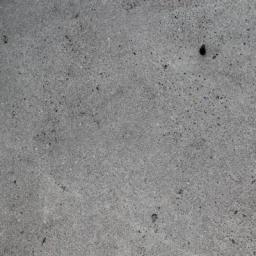FOD: (197, 43, 210, 59)
